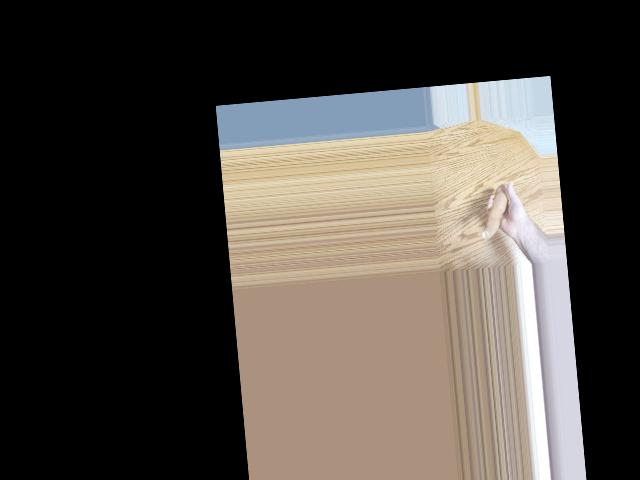sweet_potato: (477, 185, 511, 242)
